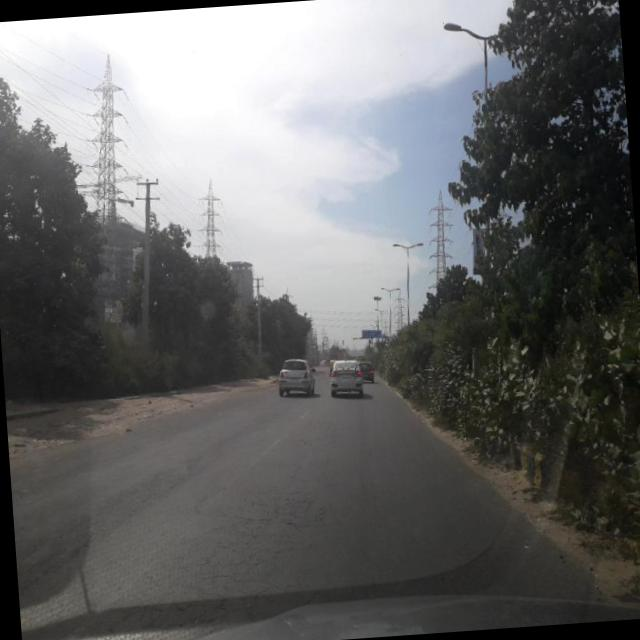crack: (9, 398, 500, 614)
